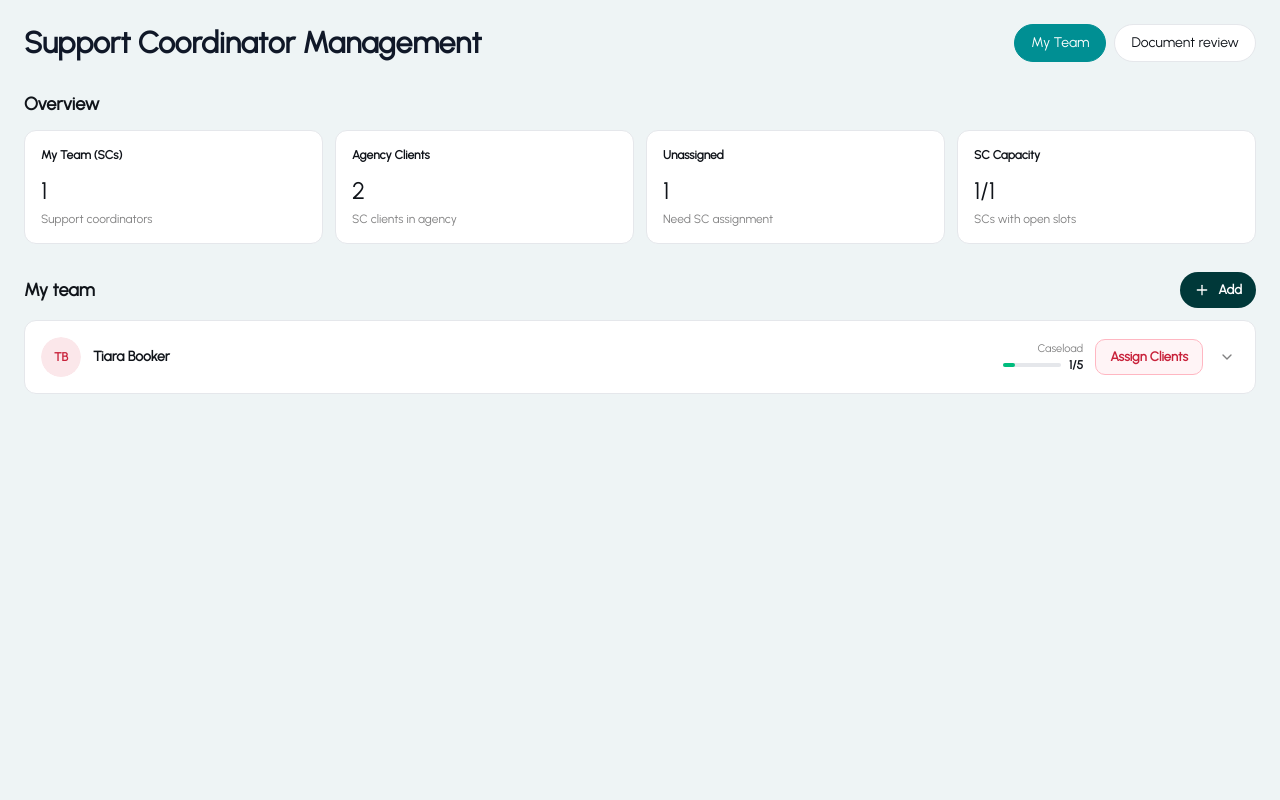
it: SupportCoordinatorManagement › excludes non-active SC enrollments and lets existing inactive assignments be removed
Later steps or results of the test are not shown.
Step 1. Click the button "Assign Clients" → (1149, 357), box [1095,339,1203,375]
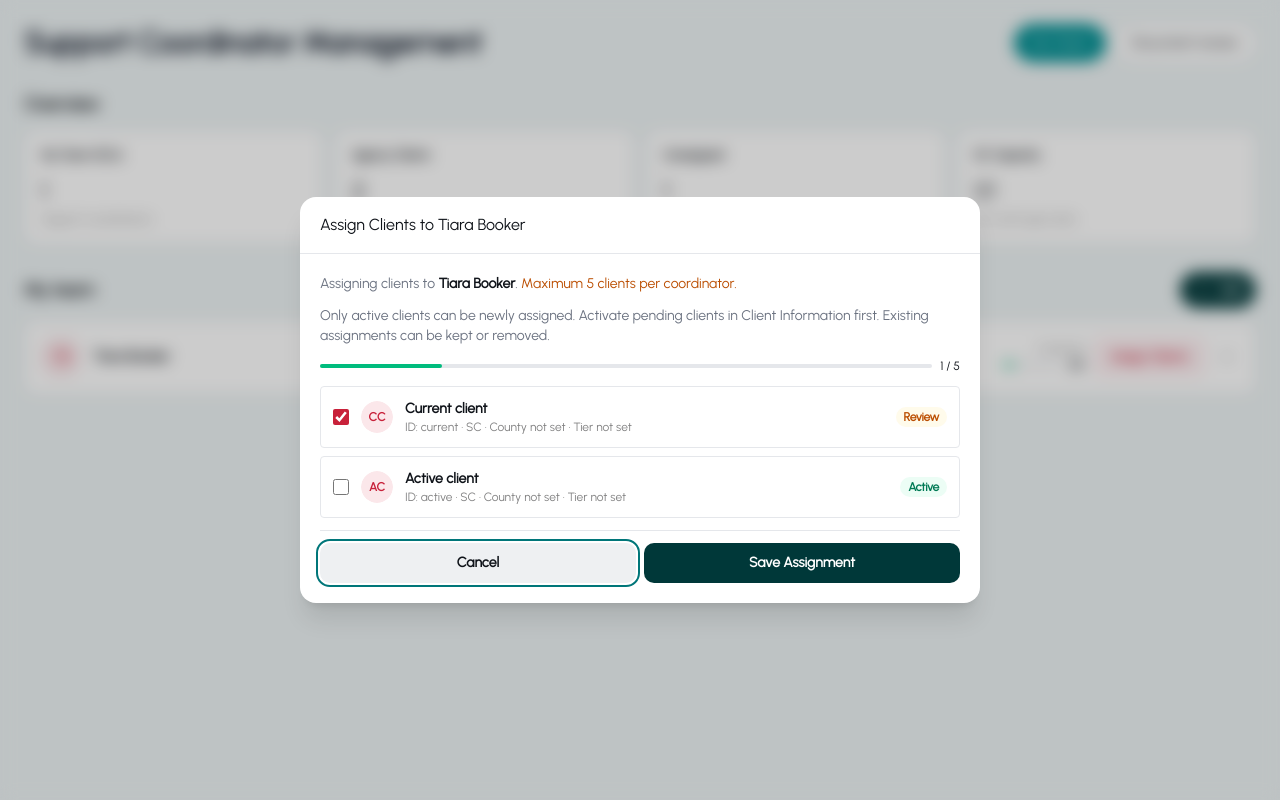
Expected: the checkbox named "Assign Current client" is checked
Step 2. Click the checkbox named "Assign Current client" → (341, 417), box [333,409,349,425]
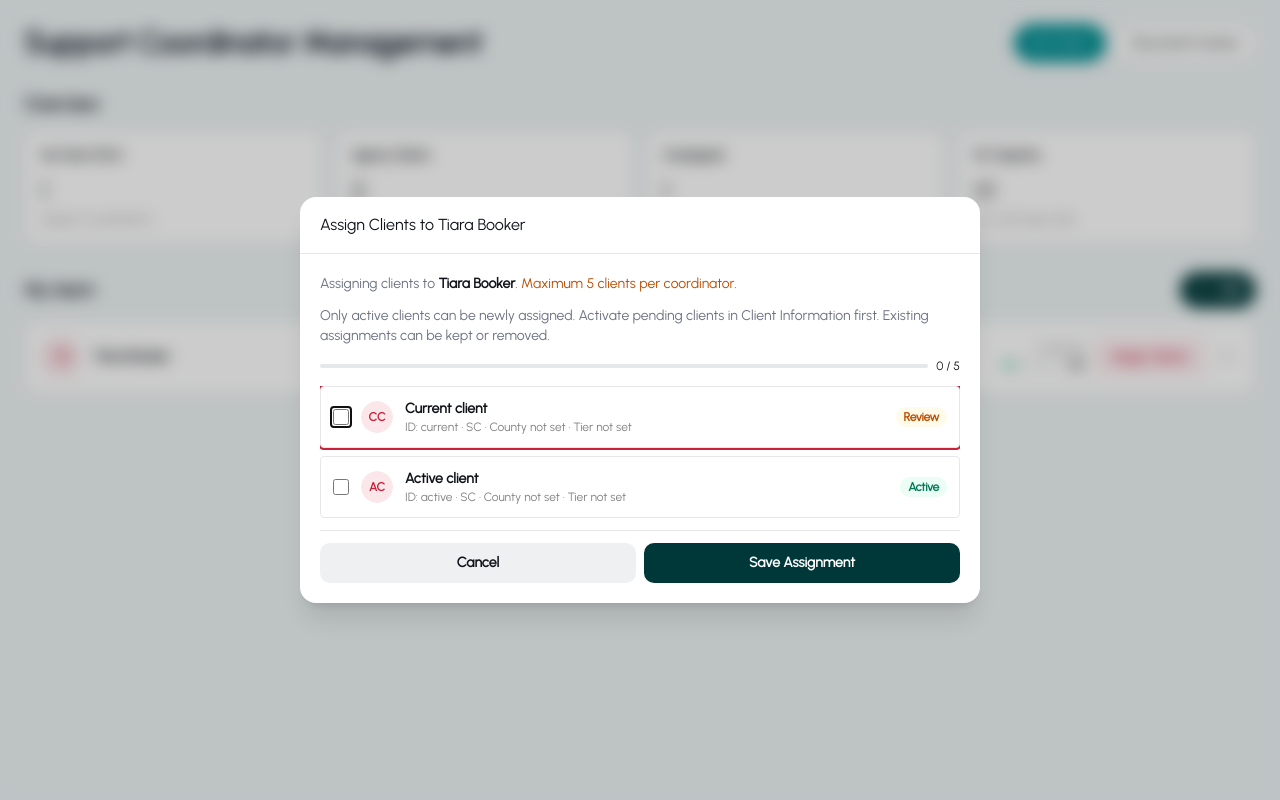
Expected: the checkbox named "Assign Current client" is enabled
Step 3. Click the checkbox named "Assign Current client" → (341, 417), box [333,409,349,425]
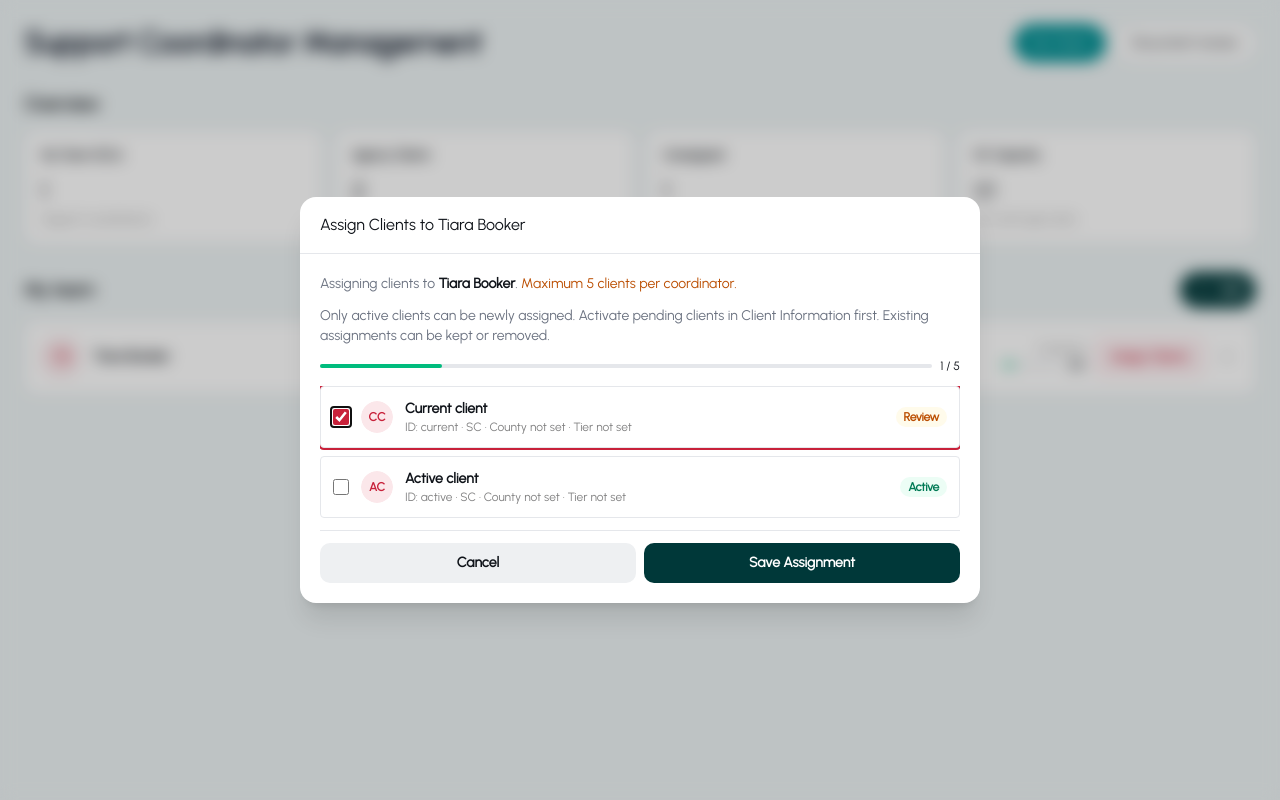
Expected: the checkbox named "Assign Current client" is checked, [333,409,349,425]
